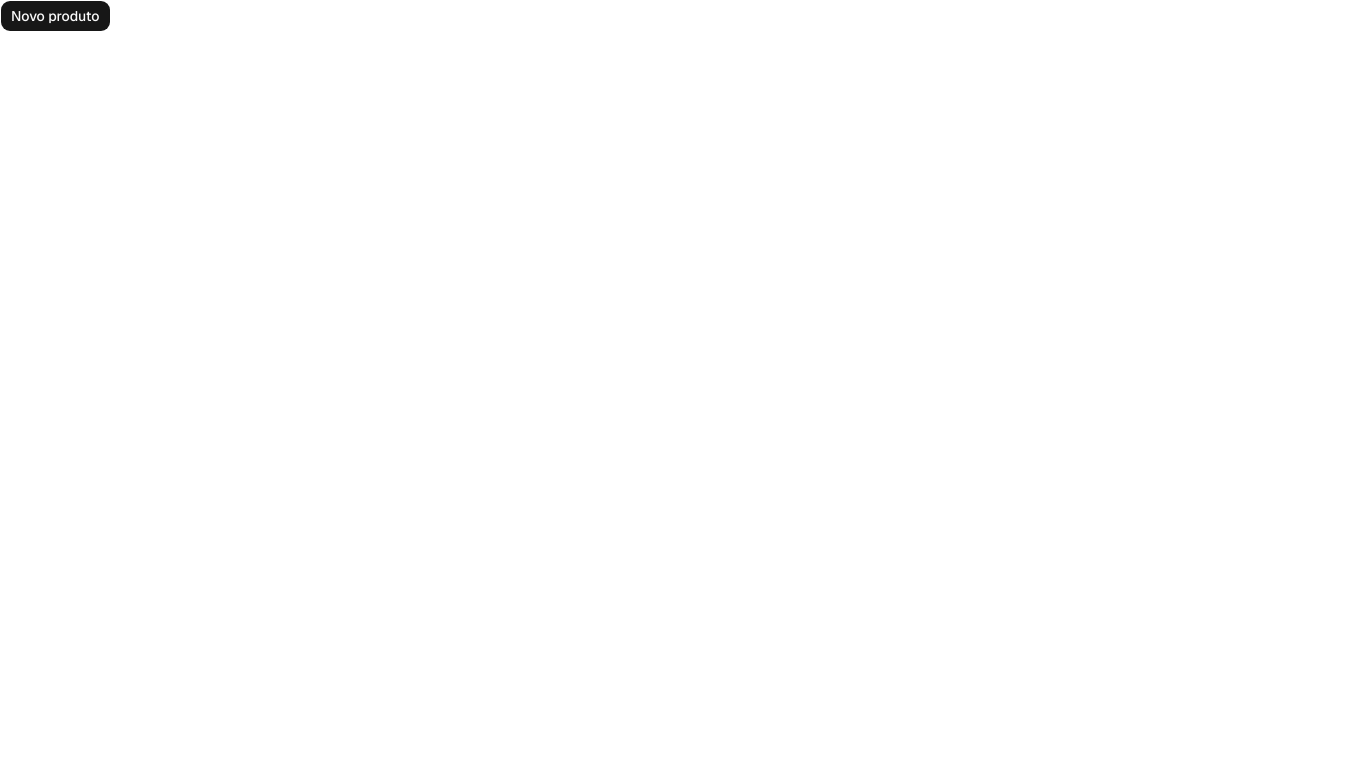
CreateProductDialog › disables Criar produto while pending
The image size is (1366, 768).
Later steps or results of the test are not shown.
Click the button "Novo produto" at (55, 16), box [0,0,110,32]
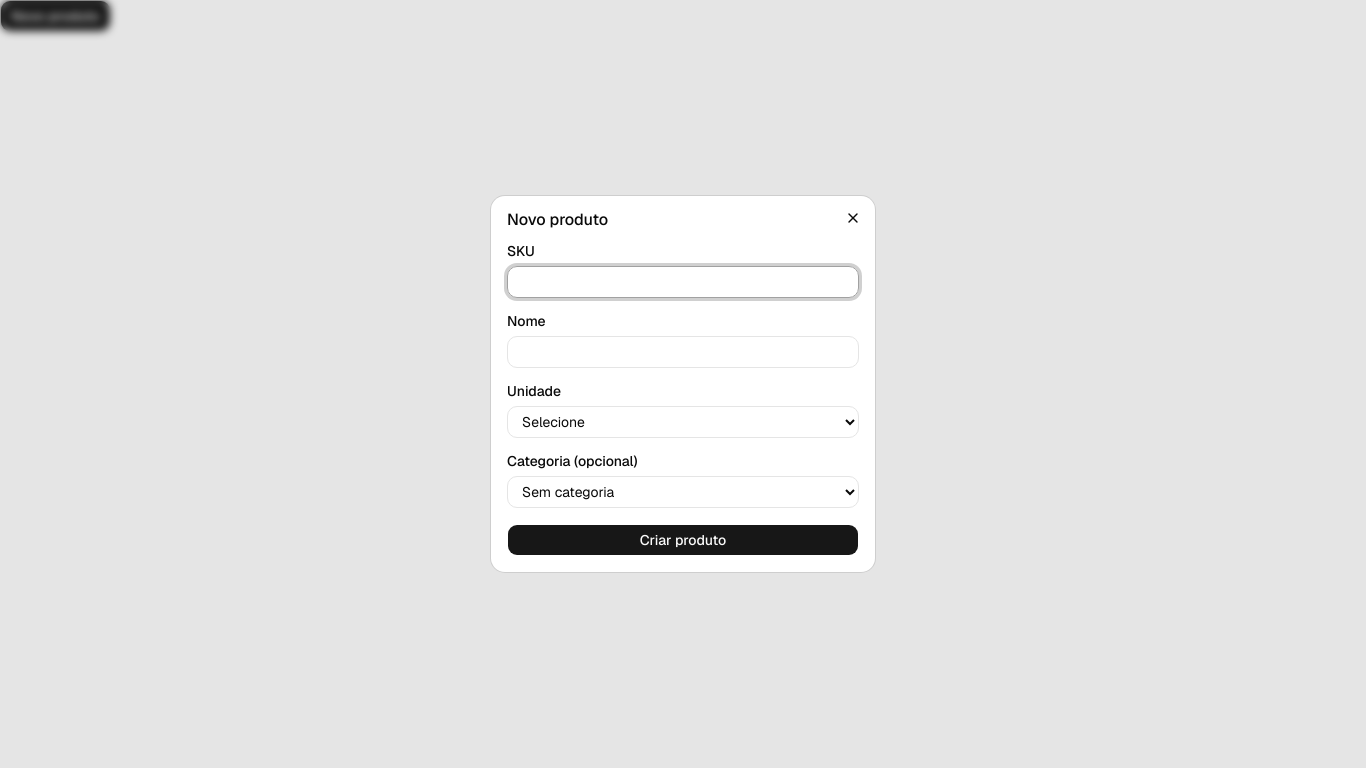
Expected: the dialog is shown, [491,196,875,572]
Type "ab-1" into the field labelled "SKU" at (683, 282), box [507,266,859,298]
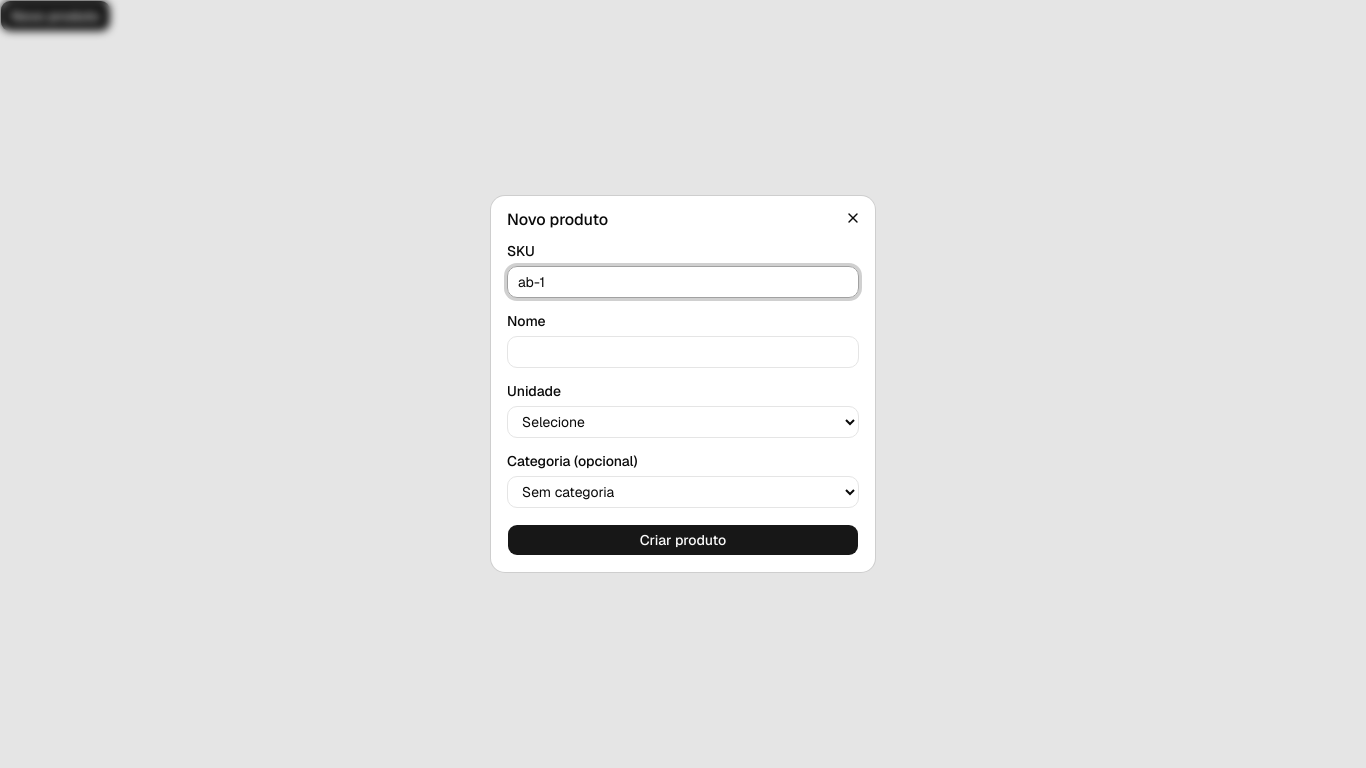
Type "Água" into the field labelled "Nome" at (683, 352), box [507,336,859,368]
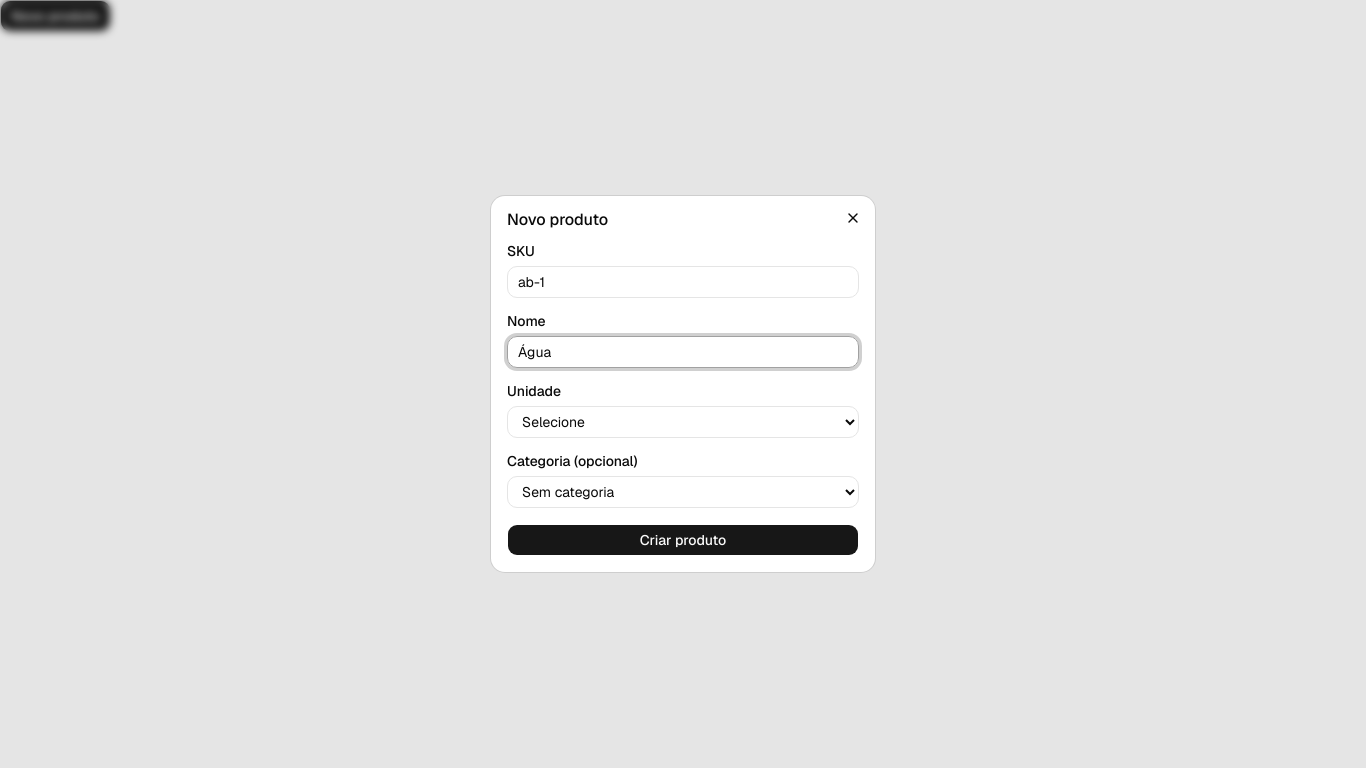
Select "Quilograma (KG)" in the dropdown labelled "Unidade" at (683, 422), box [507,406,859,438]
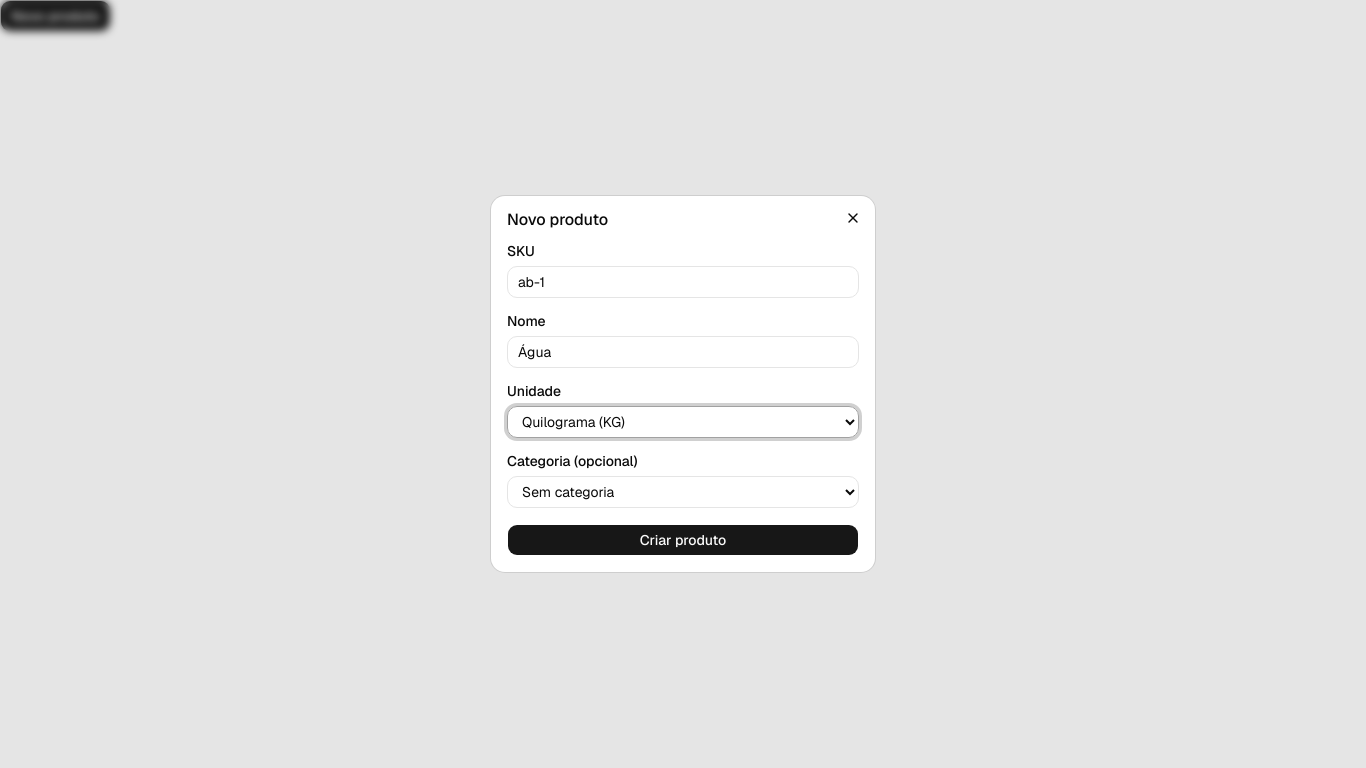
Click the button "Criar produto" at (683, 540), box [507,524,859,556]
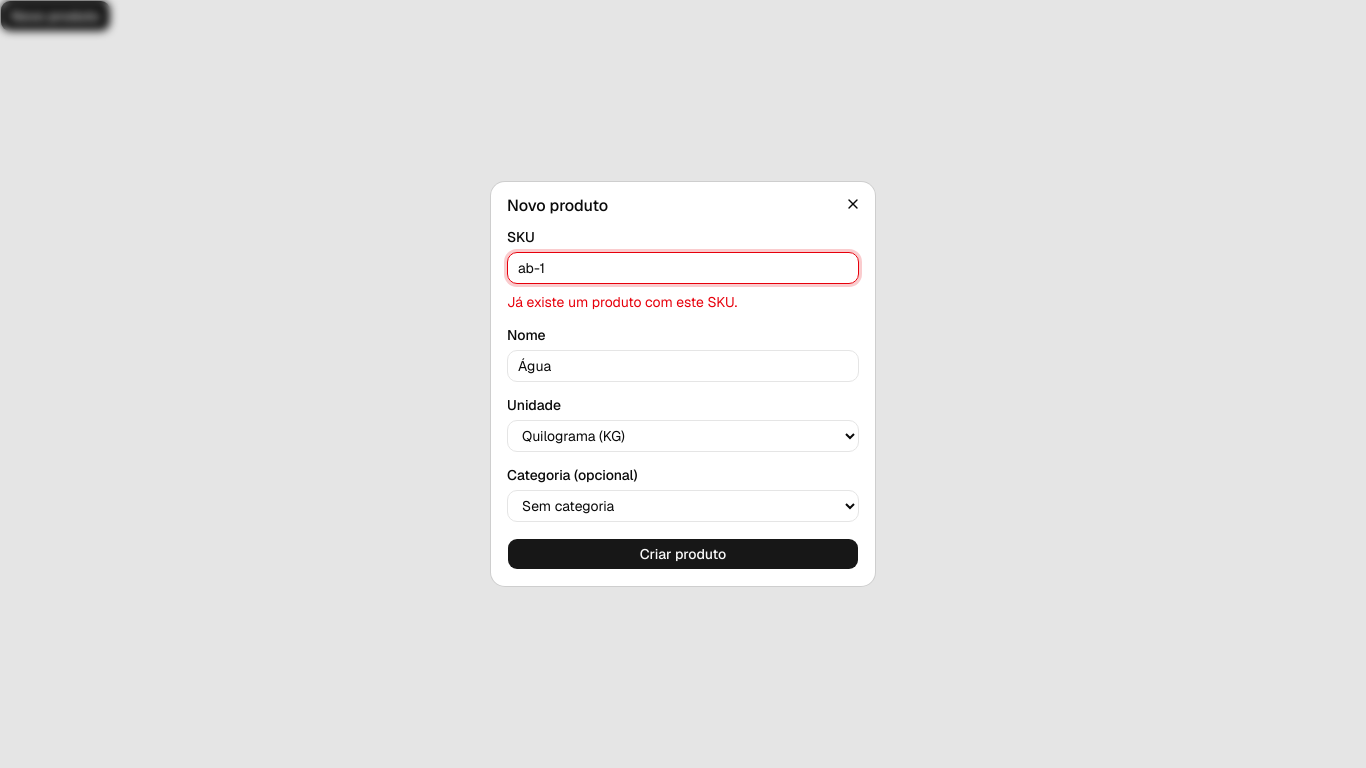
Expected: the dialog is shown, [491,182,875,586]
Expected: the button "Criar produto" is enabled, [507,538,859,570]
Expected: the text "Já existe um produto com este SKU." is shown, [507,293,737,311]
